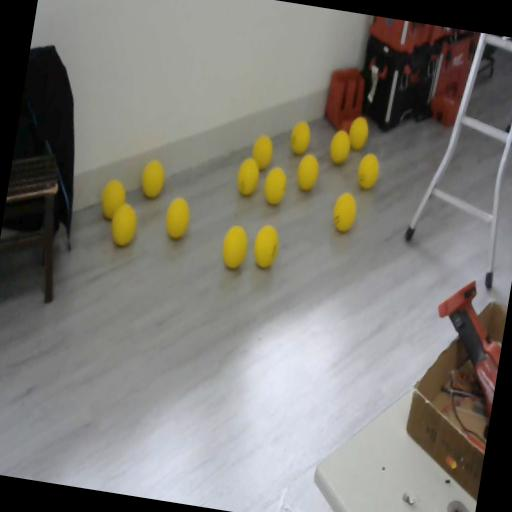FUEL: (160, 193, 194, 242), (107, 200, 140, 249), (218, 222, 250, 272), (250, 222, 282, 270), (330, 188, 358, 234), (138, 158, 166, 200), (261, 164, 288, 206), (234, 156, 261, 198), (248, 131, 276, 171), (354, 150, 382, 190), (294, 152, 320, 192), (326, 126, 352, 166), (346, 114, 370, 151), (288, 120, 312, 156)
